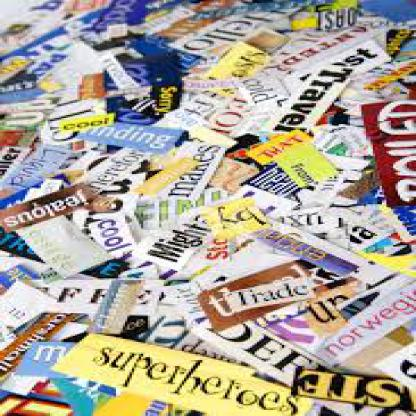paper: (0, 0, 414, 415), (48, 333, 307, 414), (139, 274, 318, 376), (318, 280, 414, 393), (230, 150, 364, 216), (193, 266, 334, 328), (2, 339, 107, 414), (238, 222, 362, 280), (278, 35, 387, 100), (9, 212, 114, 275), (354, 97, 414, 207), (0, 276, 62, 382), (112, 30, 180, 123), (288, 364, 414, 414), (166, 9, 291, 59), (132, 204, 216, 272), (266, 62, 343, 136), (273, 24, 377, 77), (19, 275, 162, 312), (0, 30, 66, 104), (141, 144, 225, 202), (66, 146, 148, 202), (52, 20, 109, 100), (0, 181, 98, 224), (61, 0, 146, 49), (148, 0, 238, 44), (271, 201, 346, 250), (80, 277, 138, 339), (336, 206, 402, 258), (75, 119, 173, 154), (0, 0, 71, 48), (268, 139, 328, 191), (198, 194, 266, 239), (341, 61, 414, 102), (0, 113, 48, 171), (77, 207, 139, 251), (232, 71, 289, 112), (196, 95, 250, 138), (134, 1, 193, 36), (241, 127, 307, 157), (41, 98, 102, 130), (368, 200, 414, 240), (377, 23, 414, 61), (309, 0, 351, 31), (241, 0, 309, 17), (278, 3, 318, 26), (352, 12, 386, 36), (2, 109, 41, 128)
